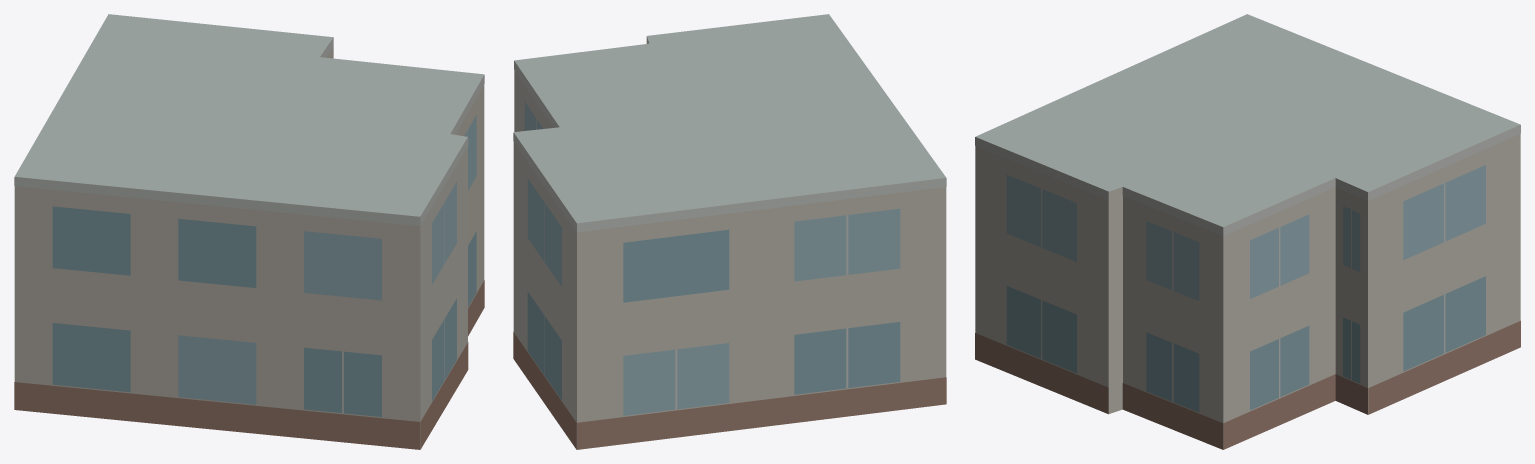
The model's file is survey-upis-32850791.glb.
3 renders of one model, left to right at view 1: azimuth 30°, elevation 25°; view 2: azimuth 150°, elevation 25°; view 3: azimuth 270°, elevation 25°, orthographic. The views are drawn at different scales.
Parts seen in each view (by area): view 1: survey-upis-32850791.tmp; view 2: survey-upis-32850791.tmp; view 3: survey-upis-32850791.tmp.
Boxes of the visible parts, x1,y1,x2,y2 form: survey-upis-32850791.tmp: [14, 14, 484, 449]; survey-upis-32850791.tmp: [513, 14, 946, 449]; survey-upis-32850791.tmp: [975, 14, 1520, 449].
Size of the model in its own units: 12.54 by 6.1 by 13.56.
